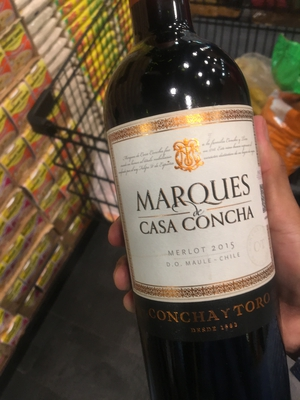marques de casa concha merlot: (90, 16, 279, 364)
